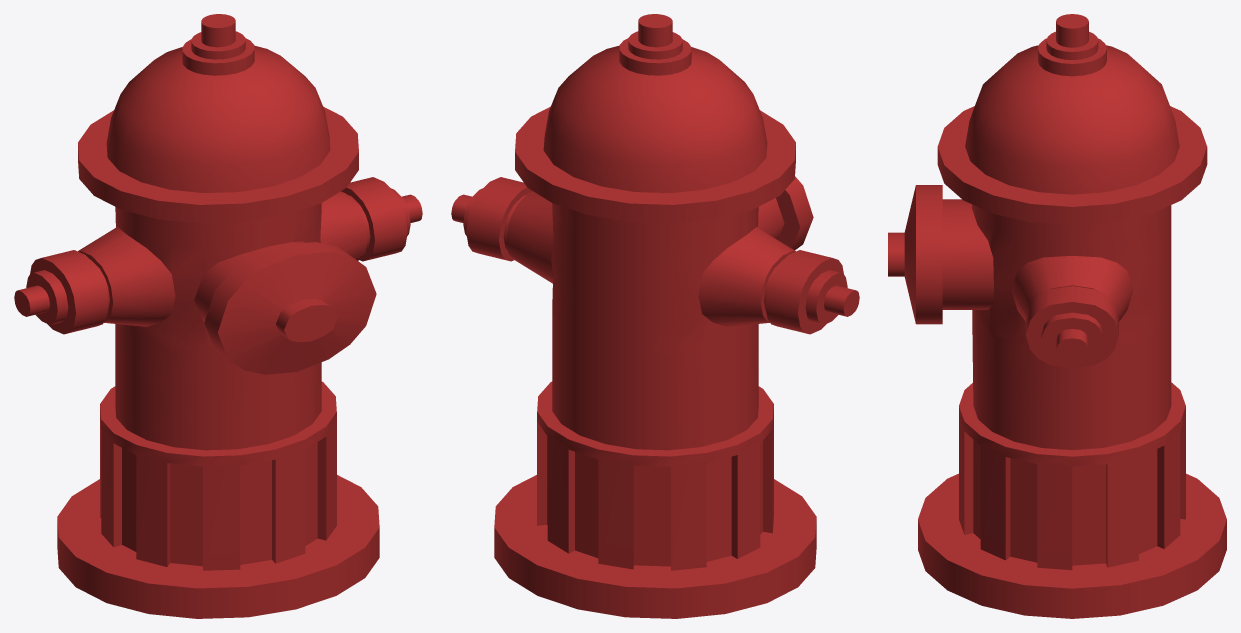
Rendered from Prop_Hydrant_Model.fbx.
3 renders of one model, left to right at view 1: azimuth 30°, elevation 25°; view 2: azimuth 150°, elevation 25°; view 3: azimuth 270°, elevation 25°, orthographic.
Parts seen in each view (by area): view 1: Prop_Hydrant_Model; view 2: Prop_Hydrant_Model; view 3: Prop_Hydrant_Model.
Part boxes in pixels (x1,y1,x2,y2): Prop_Hydrant_Model: (14,14,422,618); Prop_Hydrant_Model: (451,14,859,618); Prop_Hydrant_Model: (888,14,1226,618).
Size of the model in its own units: 60.38 by 78.16 by 45.44.
